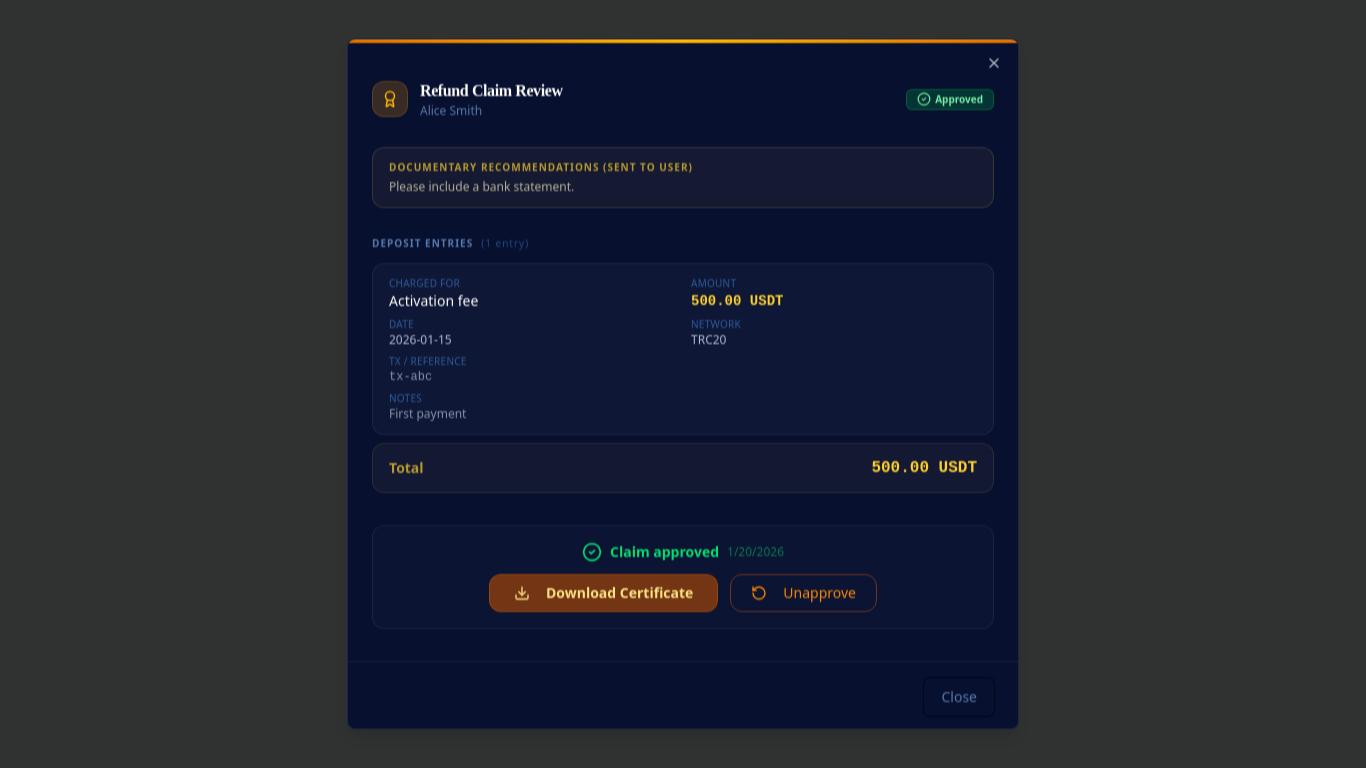
Scenario: RefundClaimReviewDialog › shows the inline cert error banner when the certificate endpoint returns a non-ok response
Click the button "Download Certificate" at [604, 593], box [489,574,718,612]
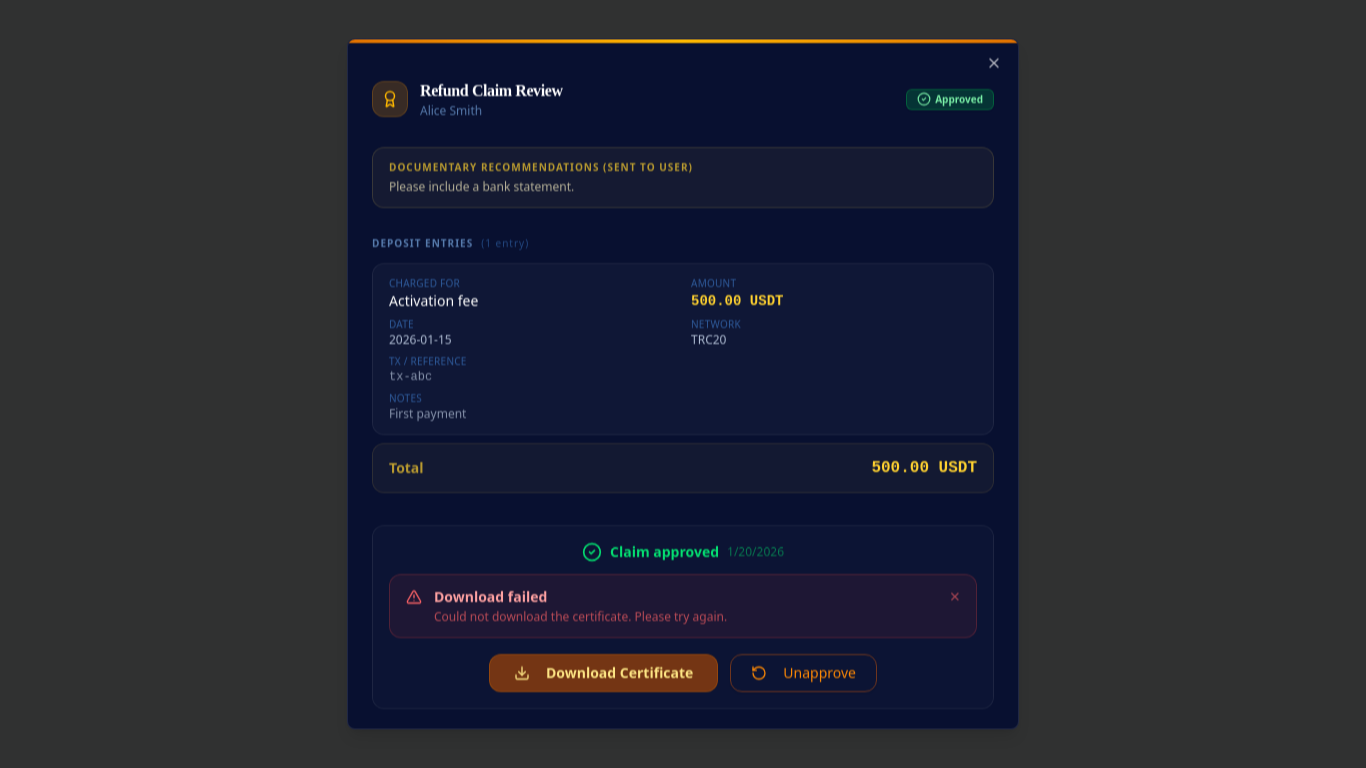
Expected: the button "Download Certificate" is enabled, [489,654,718,692]
Expected: the element with test id "cert-download-error" is shown, [389,574,977,638]
Expected: the text "Download failed" is shown, [434,587,547,606]
